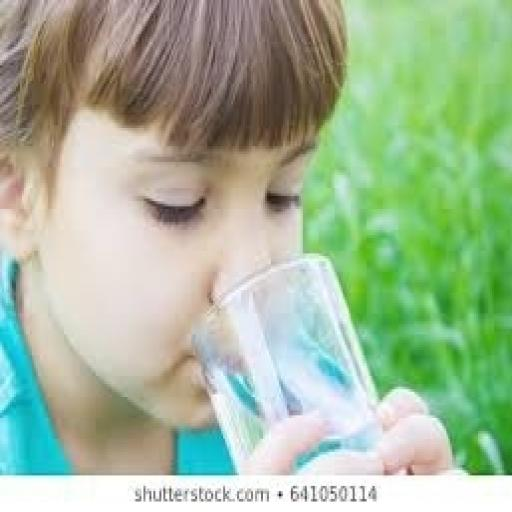drinking: (188, 251, 386, 473)
